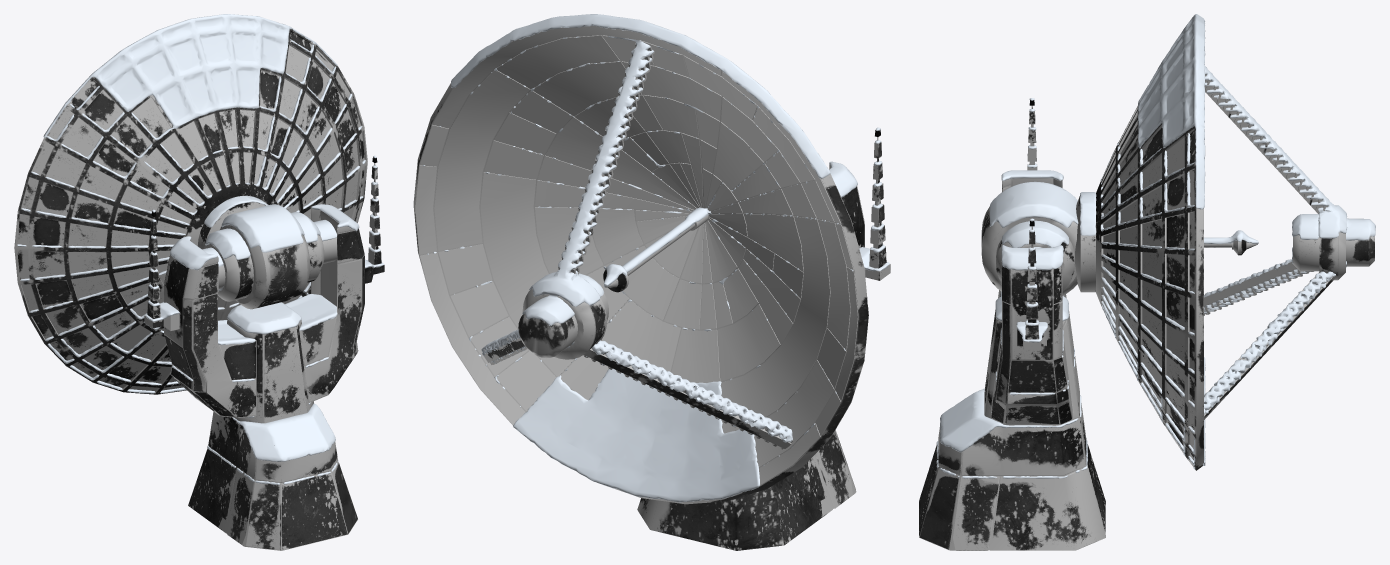
The picture shows the model from 3 angles, left to right: view 1: azimuth 30°, elevation 25°; view 2: azimuth 150°, elevation 25°; view 3: azimuth 270°, elevation 25°; orthographic projection. The views are drawn at different scales.
Visible parts, largest first — view 1: DishPart1.Shape, DishPart2.Shape; view 2: DishPart1.Shape, DishPart2.Shape; view 3: DishPart1.Shape, DishPart2.Shape.
Part boxes in pixels (bbox=[...]): DishPart1.Shape: bbox=[14, 14, 367, 394]; DishPart2.Shape: bbox=[144, 155, 384, 550]; DishPart1.Shape: bbox=[413, 14, 868, 504]; DishPart2.Shape: bbox=[637, 127, 890, 550]; DishPart1.Shape: bbox=[981, 14, 1375, 470]; DishPart2.Shape: bbox=[919, 98, 1105, 550].
Bounding box in the file's own units: 2.12 × 2.49 × 2.12.
